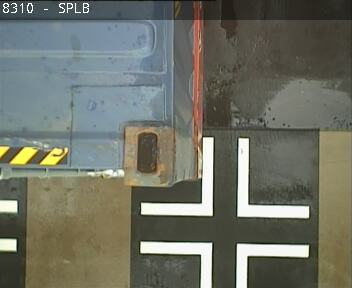groundmarker_1: (140, 137, 309, 220), (140, 240, 309, 288)
